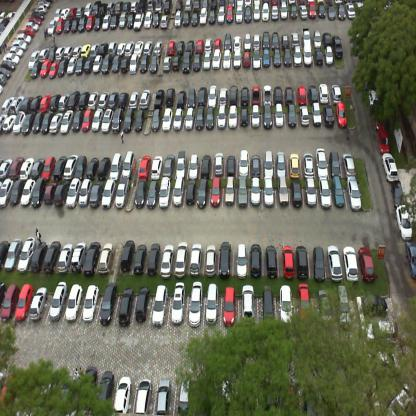car: (382, 382, 414, 415), (92, 370, 115, 412), (362, 318, 396, 344), (13, 282, 34, 322), (372, 350, 401, 378), (99, 281, 116, 327), (48, 281, 67, 322), (341, 244, 360, 284), (112, 376, 131, 414), (28, 286, 47, 324), (17, 236, 36, 274), (358, 243, 376, 283), (188, 280, 203, 328), (83, 366, 98, 414), (151, 284, 167, 328), (360, 292, 388, 317), (38, 375, 58, 410), (278, 282, 294, 325), (136, 376, 154, 414), (394, 205, 413, 241), (64, 284, 82, 322), (117, 287, 134, 327), (336, 283, 351, 327), (327, 243, 343, 284), (1, 283, 19, 319), (83, 241, 101, 277), (82, 285, 99, 323), (204, 283, 219, 326), (172, 280, 186, 326), (20, 374, 38, 409), (30, 240, 47, 277), (59, 375, 76, 412), (240, 283, 255, 324), (43, 240, 61, 274), (119, 238, 136, 274), (197, 379, 214, 415), (0, 373, 18, 407), (57, 240, 74, 275), (4, 238, 22, 271), (97, 242, 115, 275), (222, 284, 236, 326), (380, 151, 398, 183), (317, 288, 333, 324), (312, 243, 326, 284), (280, 242, 295, 280), (135, 286, 150, 324), (303, 378, 318, 416), (114, 176, 130, 211), (220, 376, 234, 416), (156, 378, 171, 415), (242, 378, 257, 415), (70, 240, 86, 274), (346, 176, 361, 212), (177, 375, 191, 413), (295, 242, 309, 280), (160, 242, 174, 279), (263, 378, 277, 415), (101, 177, 116, 211), (296, 284, 310, 320), (66, 178, 82, 209), (331, 174, 346, 207), (265, 242, 278, 280), (262, 284, 275, 322), (146, 242, 160, 277), (174, 242, 188, 277), (218, 240, 232, 275), (88, 181, 104, 211), (31, 177, 46, 209), (195, 176, 209, 210), (157, 176, 171, 210), (236, 242, 248, 281), (146, 178, 160, 211), (52, 182, 69, 209), (133, 244, 147, 276), (190, 242, 203, 276), (404, 239, 415, 279), (341, 149, 356, 178), (78, 178, 92, 209), (375, 128, 391, 155), (318, 176, 331, 209), (18, 157, 35, 182), (390, 178, 404, 208), (304, 177, 318, 207), (248, 177, 262, 207), (134, 178, 148, 208), (10, 178, 25, 206), (40, 155, 56, 181), (223, 175, 235, 209), (284, 381, 296, 415), (52, 155, 67, 182), (0, 178, 13, 209), (250, 243, 261, 279), (316, 144, 328, 177), (120, 150, 134, 178), (109, 151, 122, 181), (21, 179, 36, 205), (290, 177, 302, 209), (263, 175, 275, 207), (237, 176, 249, 208), (328, 148, 341, 177), (63, 155, 79, 178), (8, 156, 24, 179), (20, 111, 36, 134), (122, 105, 135, 133), (70, 108, 84, 134), (172, 176, 184, 206), (206, 243, 216, 278), (72, 155, 86, 180), (288, 149, 300, 178), (277, 176, 289, 205), (184, 179, 197, 205), (138, 154, 151, 180), (100, 107, 113, 133), (237, 148, 249, 176), (331, 32, 343, 60), (210, 177, 221, 207), (97, 156, 110, 181), (61, 107, 74, 132), (186, 153, 198, 180), (39, 110, 53, 133), (12, 111, 26, 134), (31, 157, 46, 178), (163, 154, 175, 180), (150, 154, 162, 180), (85, 156, 98, 180), (335, 102, 347, 128), (261, 103, 273, 129), (172, 106, 184, 132), (91, 107, 103, 133), (81, 108, 93, 134), (32, 111, 46, 133), (276, 148, 286, 178), (176, 148, 186, 178), (1, 113, 16, 133), (297, 104, 310, 127), (286, 102, 297, 129), (161, 106, 172, 133), (133, 109, 144, 136), (49, 112, 63, 133), (367, 88, 379, 112), (303, 150, 314, 176), (44, 182, 57, 204), (216, 103, 227, 129), (183, 106, 194, 132), (90, 53, 103, 75), (213, 151, 224, 176), (27, 48, 40, 69), (101, 54, 114, 75), (264, 149, 274, 176), (274, 102, 284, 129), (66, 90, 80, 109), (200, 154, 211, 178), (0, 158, 12, 180), (323, 104, 334, 128), (128, 50, 139, 74), (113, 105, 122, 134), (311, 102, 321, 128), (250, 153, 261, 176), (331, 79, 342, 102), (318, 79, 329, 102), (373, 107, 384, 130), (153, 89, 165, 110), (226, 154, 236, 179), (228, 105, 238, 130), (204, 107, 214, 132), (151, 109, 161, 134), (181, 51, 191, 76), (297, 84, 308, 106), (251, 83, 262, 105), (251, 104, 261, 128), (312, 26, 322, 50), (292, 44, 302, 68), (39, 58, 51, 78), (10, 93, 24, 110), (195, 105, 204, 131), (48, 92, 61, 110), (273, 82, 284, 103), (282, 47, 293, 68), (142, 8, 153, 29), (302, 44, 312, 67), (228, 81, 237, 106), (19, 94, 32, 111), (29, 93, 42, 110), (207, 85, 217, 107), (196, 86, 207, 106), (166, 86, 176, 108), (140, 88, 151, 108), (3, 91, 14, 111), (148, 54, 158, 76), (48, 58, 59, 78), (234, 4, 244, 26), (127, 90, 139, 108), (39, 94, 51, 112), (56, 92, 68, 110), (87, 90, 99, 108), (272, 46, 282, 67), (111, 53, 121, 74), (216, 4, 226, 25), (54, 17, 65, 36), (133, 10, 144, 29), (97, 91, 110, 107), (4, 53, 20, 66), (120, 52, 129, 75), (78, 90, 90, 107), (308, 80, 318, 100), (262, 83, 272, 103), (324, 46, 334, 66), (232, 30, 242, 50), (170, 54, 180, 74), (66, 54, 76, 74), (117, 9, 127, 29), (240, 106, 249, 128), (107, 91, 119, 107), (213, 48, 221, 72), (162, 54, 172, 73), (30, 61, 40, 80), (47, 18, 57, 37), (77, 13, 87, 32), (92, 13, 102, 32), (260, 2, 270, 21), (222, 48, 231, 69), (280, 1, 289, 22), (2, 58, 16, 71), (284, 84, 293, 104), (240, 85, 249, 105), (117, 90, 129, 105), (301, 26, 311, 44), (232, 50, 242, 68), (223, 28, 232, 48), (57, 56, 66, 76), (74, 54, 83, 74), (101, 13, 111, 31), (109, 13, 119, 31), (199, 7, 208, 27), (317, 2, 327, 20), (262, 27, 270, 49), (139, 53, 147, 75), (8, 46, 24, 57), (126, 10, 134, 32), (202, 51, 211, 70), (182, 8, 191, 27), (86, 14, 96, 31), (272, 2, 280, 23), (62, 45, 73, 60), (16, 34, 31, 45), (314, 48, 323, 66), (190, 10, 199, 28), (347, 2, 356, 20), (188, 86, 196, 106), (176, 90, 186, 106), (322, 28, 332, 44), (253, 50, 261, 70), (192, 53, 200, 73), (70, 16, 80, 32), (160, 11, 168, 31), (0, 113, 8, 133), (28, 16, 41, 28), (243, 48, 250, 70), (1, 66, 12, 80), (13, 40, 27, 51), (153, 8, 160, 30), (125, 40, 134, 57), (262, 47, 270, 66), (84, 55, 92, 74), (253, 4, 261, 23), (134, 40, 144, 55), (307, 3, 317, 18), (91, 0, 101, 15), (214, 33, 222, 51), (19, 28, 35, 37), (23, 22, 39, 31), (63, 18, 72, 34), (174, 8, 182, 26), (244, 5, 252, 23), (290, 3, 298, 21), (84, 1, 92, 19), (290, 30, 300, 44), (280, 30, 290, 44), (166, 40, 176, 54), (143, 39, 153, 53), (38, 48, 48, 62), (327, 5, 337, 19), (219, 87, 227, 104), (208, 9, 216, 26), (338, 3, 346, 20), (76, 5, 85, 20), (271, 29, 278, 48), (243, 29, 250, 48), (59, 4, 70, 16), (108, 41, 118, 54), (81, 43, 91, 56), (30, 12, 43, 22), (204, 37, 212, 53), (177, 38, 185, 54), (299, 3, 307, 19), (113, 0, 124, 11), (254, 30, 260, 50), (195, 38, 203, 53), (155, 40, 163, 55), (98, 43, 108, 55), (72, 45, 82, 57), (227, 4, 233, 24), (68, 5, 78, 17), (138, 0, 148, 12), (186, 38, 194, 52), (154, 0, 164, 11), (116, 42, 125, 54), (106, 2, 115, 14), (163, 0, 172, 12), (35, 6, 48, 14), (356, 0, 364, 13), (99, 3, 108, 14), (49, 46, 56, 60), (90, 44, 98, 56), (56, 46, 64, 58), (53, 4, 61, 16), (147, 0, 155, 12), (175, 0, 183, 12), (0, 73, 8, 85), (38, 0, 51, 7), (184, 0, 192, 11), (122, 1, 132, 9), (234, 0, 244, 8), (209, 0, 217, 9), (193, 0, 200, 10), (130, 1, 138, 9), (200, 0, 209, 7), (227, 0, 235, 7), (244, 0, 251, 8), (253, 0, 261, 5), (219, 0, 224, 7)
